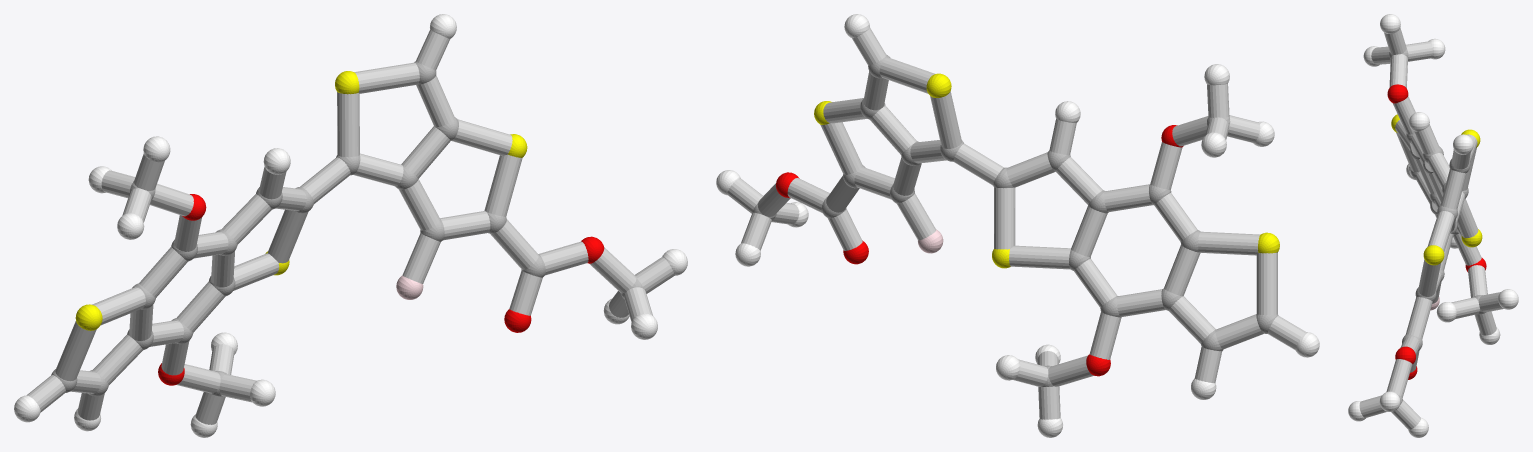
The model's file is color.glb.
3 views of the same model, side by side, from view 1: azimuth 30°, elevation 25°; view 2: azimuth 150°, elevation 25°; view 3: azimuth 270°, elevation 25° (orthographic). The views are drawn at different scales.
Visible parts, largest first — view 1: grp15205, grp8689, grp1, grp7241, grp13395; view 2: grp15205, grp8689, grp1, grp7241, grp13395; view 3: grp15205, grp8689, grp1, grp7241, grp13395.
Boxes of the visible parts, <box> form: grp15205: <box>26,30,674,424</box>; grp8689: <box>14,14,687,437</box>; grp1: <box>51,61,643,396</box>; grp7241: <box>75,71,527,330</box>; grp13395: <box>158,194,604,385</box>; grp15205: <box>727,28,1305,419</box>; grp8689: <box>716,14,1319,437</box>; grp1: <box>752,54,1278,386</box>; grp7241: <box>814,73,1279,268</box>; grp13395: <box>776,125,1183,376</box>; grp15205: <box>1359,28,1503,429</box>; grp8689: <box>1348,14,1518,437</box>; grp1: <box>1389,48,1485,404</box>; grp7241: <box>1391,114,1482,265</box>; grp13395: <box>1387,84,1486,379</box>.
Size of the model in its own units: 16.68 by 9.27 by 4.91.
